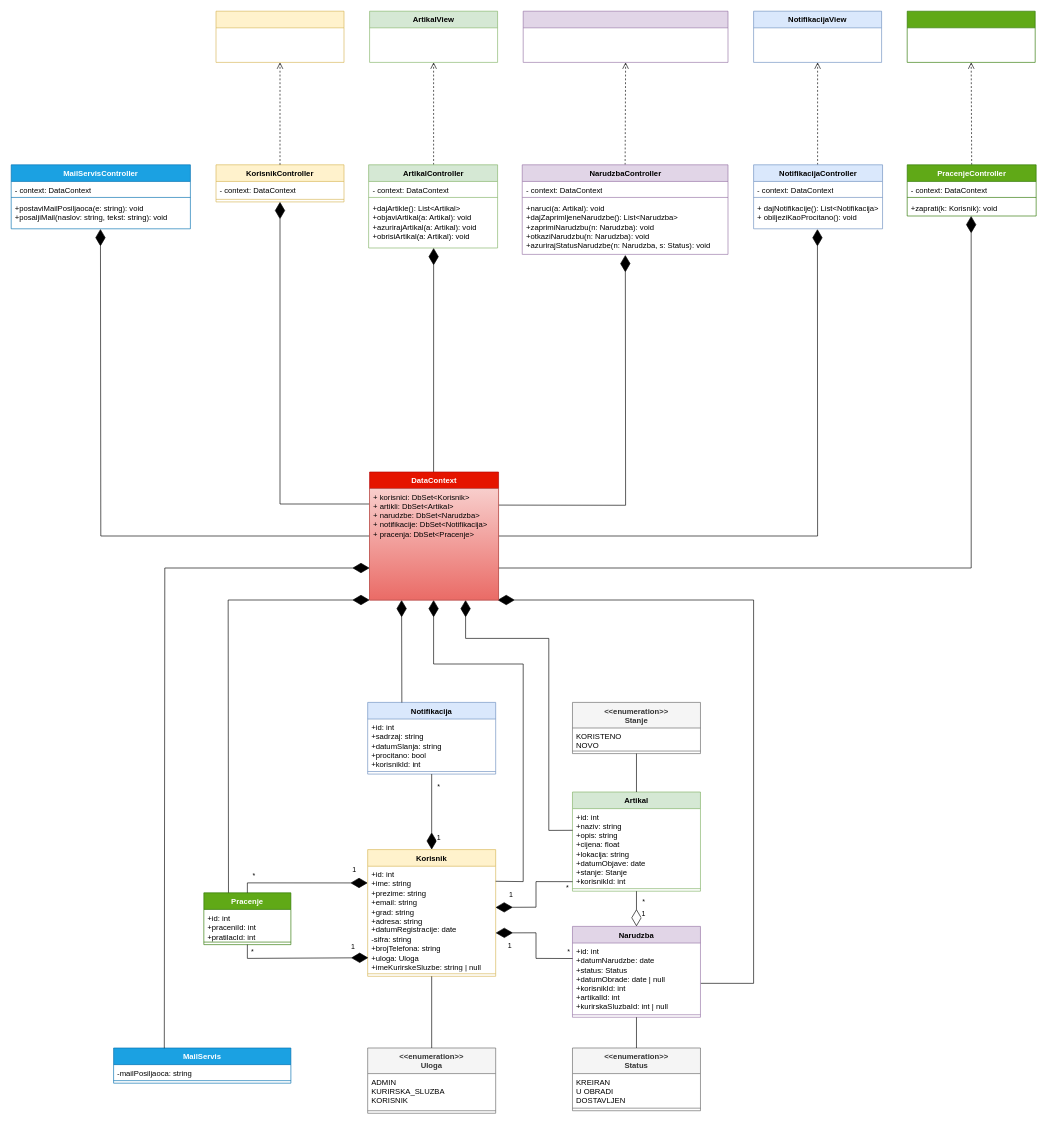
This 1048x1124 diagram has some shape labels left out. The shapes that lost their labels are listed below. From the top down, each one's centre as x and y in pixels, then its label:
pixel 279 36: KorisnikView
pixel 625 36: NarudzbaView
pixel 971 36: PracenjeView
